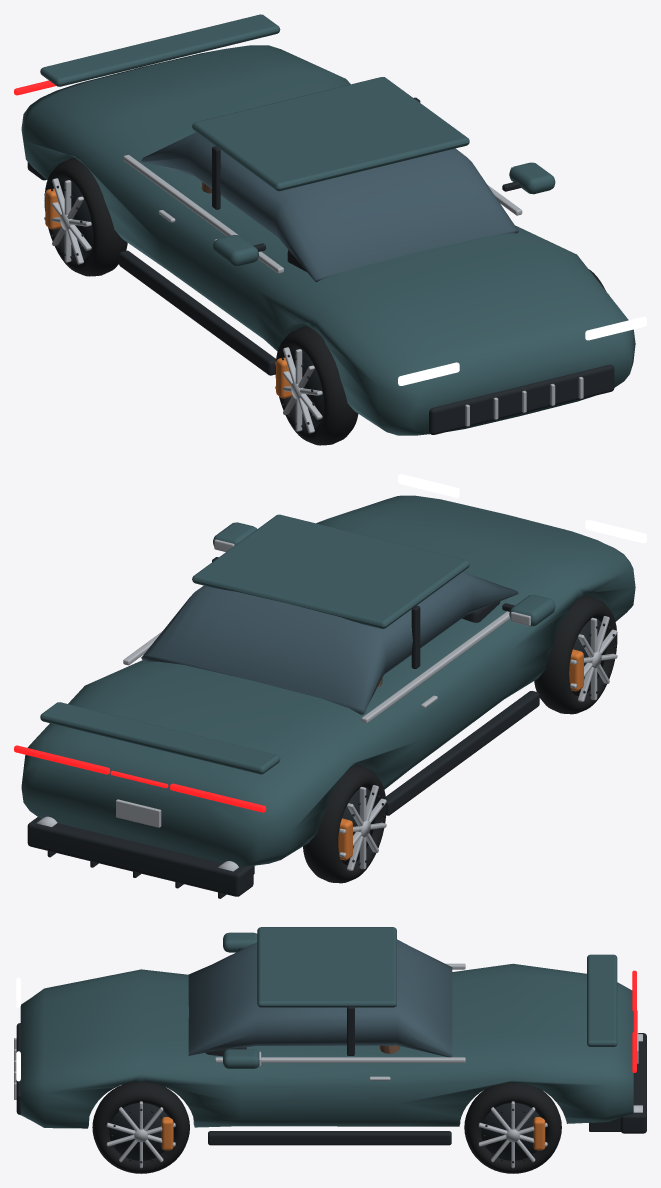
File: performance-coupe.glb
3 views of the same model, one above another, from view 1: azimuth 30°, elevation 25°; view 2: azimuth 150°, elevation 25°; view 3: azimuth 270°, elevation 25° (orthographic). The views are drawn at different scales.
Parts seen in each view (by area): view 1: Sculpted coachwork, Glazed cabin, Floating roof, Integrated rear spoiler, Front lower intake, Performance tire, Performance tire.001, Side skirt, Window sill, Mirror housing, Mirror housing.001, Wheel barrel (+3 smaller); view 2: Sculpted coachwork, Glazed cabin, Floating roof, Rear diffuser, Integrated rear spoiler, Performance tire, Performance tire.001, Side skirt, Window sill, Rear license plate, Mirror housing, Rear light blade (+3 smaller); view 3: Sculpted coachwork, Glazed cabin, Floating roof, Performance tire.002, Performance tire.003, Side skirt.001, Integrated rear spoiler, Wheel barrel.003, Wheel barrel.002, Rear diffuser, Window sill.001, Mirror housing.001 (+4 smaller).
Boxes of the visible parts, x1,y1,x2,y2 form: Sculpted coachwork: (21,45,635,435); Glazed cabin: (141,132,518,282); Floating roof: (192,77,469,191); Integrated rear spoiler: (40,14,280,86); Front lower intake: (429,364,614,434); Performance tire: (275,326,358,445); Performance tire.001: (44,157,127,276); Side skirt: (119,250,275,375); Window sill: (123,155,283,273); Mirror housing: (213,235,258,266); Mirror housing.001: (509,162,555,194); Wheel barrel: (290,350,323,427); Sculpted coachwork: (21,495,635,867); Glazed cabin: (141,571,518,714); Floating roof: (192,514,469,628); Rear diffuser: (27,817,253,896); Integrated rear spoiler: (40,702,280,774); Performance tire: (534,595,617,714); Performance tire.001: (303,764,386,883); Side skirt: (386,691,539,815); Window sill: (361,611,510,723); Rear license plate: (116,799,161,827); Mirror housing: (509,594,555,626); Rear light blade: (170,783,266,812); Sculpted coachwork: (20,963,633,1128); Glazed cabin: (188,939,452,1057); Floating roof: (257,927,396,1007); Performance tire.002: (92,1082,189,1173); Performance tire.003: (464,1083,561,1173); Side skirt.001: (208,1131,451,1145); Integrated rear spoiler: (587,954,617,1046); Wheel barrel.003: (481,1103,539,1160); Wheel barrel.002: (109,1103,168,1160); Rear diffuser: (620,1033,646,1133); Window sill.001: (215,1057,465,1062); Mirror housing.001: (223,1049,259,1068).
Size of the model in its own units: 2.29 by 1.31 by 4.8.
